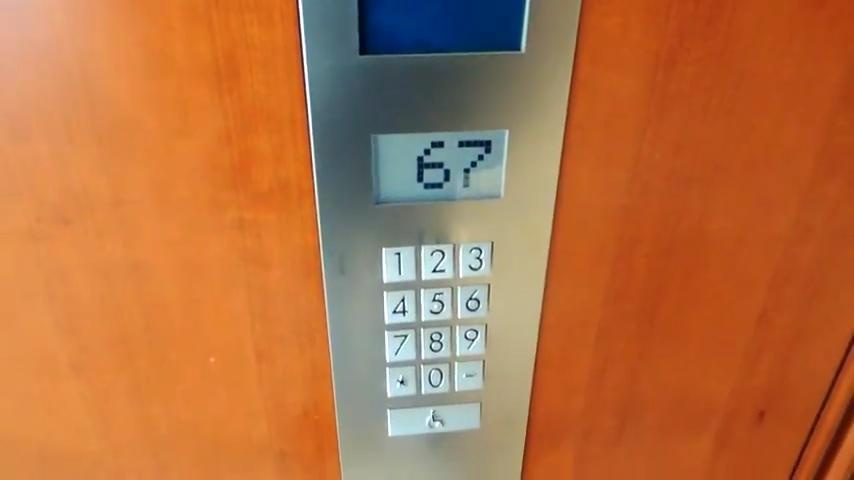*: (384, 364, 417, 398)
-: (453, 359, 484, 392)
0: (419, 361, 452, 395)
1: (381, 245, 416, 283)
2: (419, 244, 454, 282)
3: (458, 240, 493, 278)
4: (382, 288, 417, 326)
5: (418, 285, 453, 323)
6: (455, 282, 490, 320)
7: (384, 329, 417, 363)
8: (420, 325, 452, 360)
9: (455, 322, 487, 357)
CH: (385, 402, 483, 437)
led: (369, 125, 510, 205)
